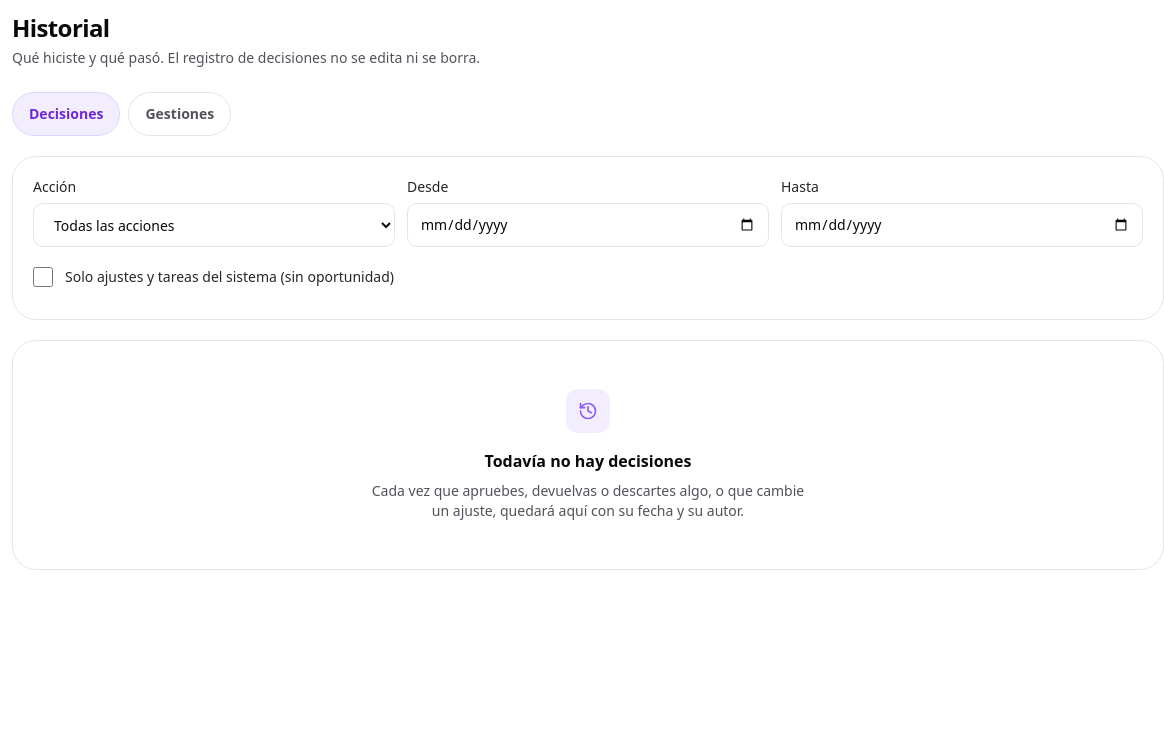
Test: Historial · decisiones › sin decisiones lo dice con honestidad; con filtros, distingue «no hay» de «no coincide»
expect the heading "Todavía no hay decisiones" is shown: met, box x1=484 y1=449 x2=692 y2=473
Step 1. Click the checkbox labelled "Solo ajustes y tareas del sistema (sin oportunidad)" → (43, 277), box x1=33 y1=267 x2=53 y2=287
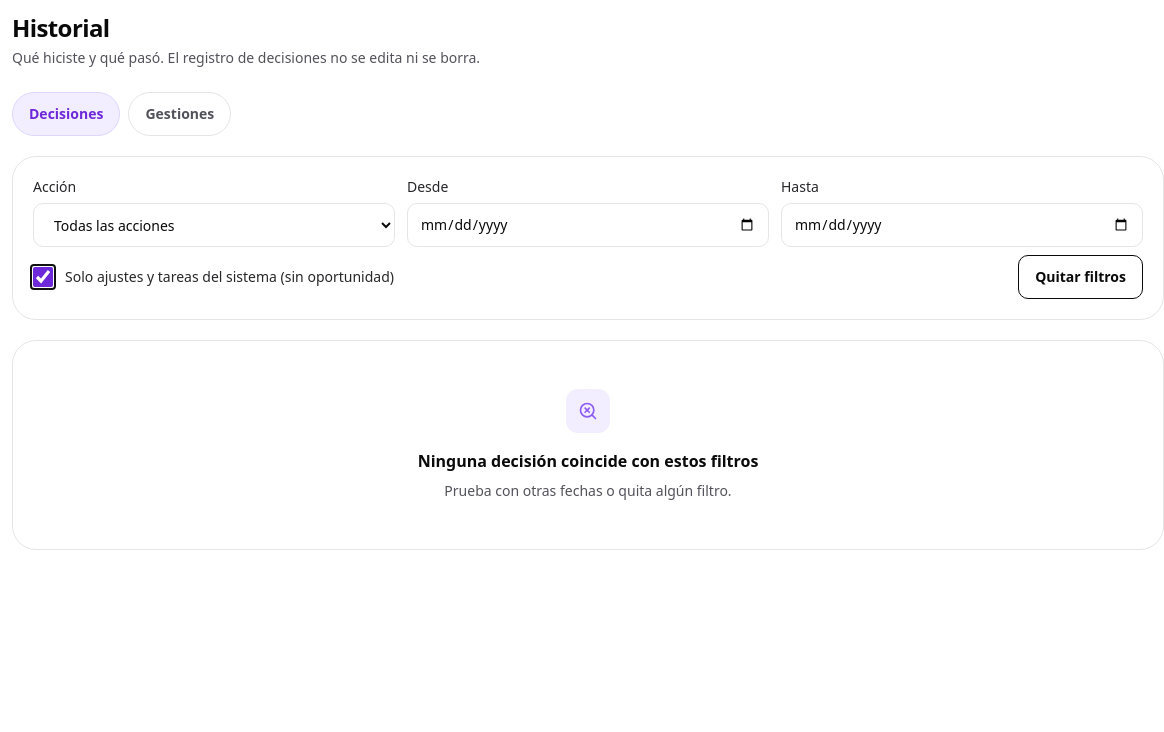
expect the heading "Ninguna decisión coincide con estos filtros" is shown: met, box x1=418 y1=449 x2=758 y2=473
